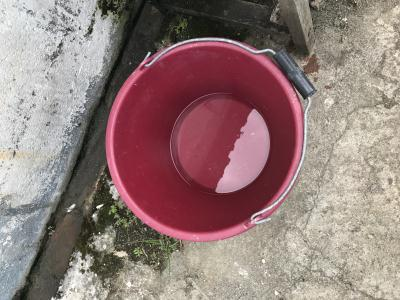bucket: (103, 36, 312, 245)
